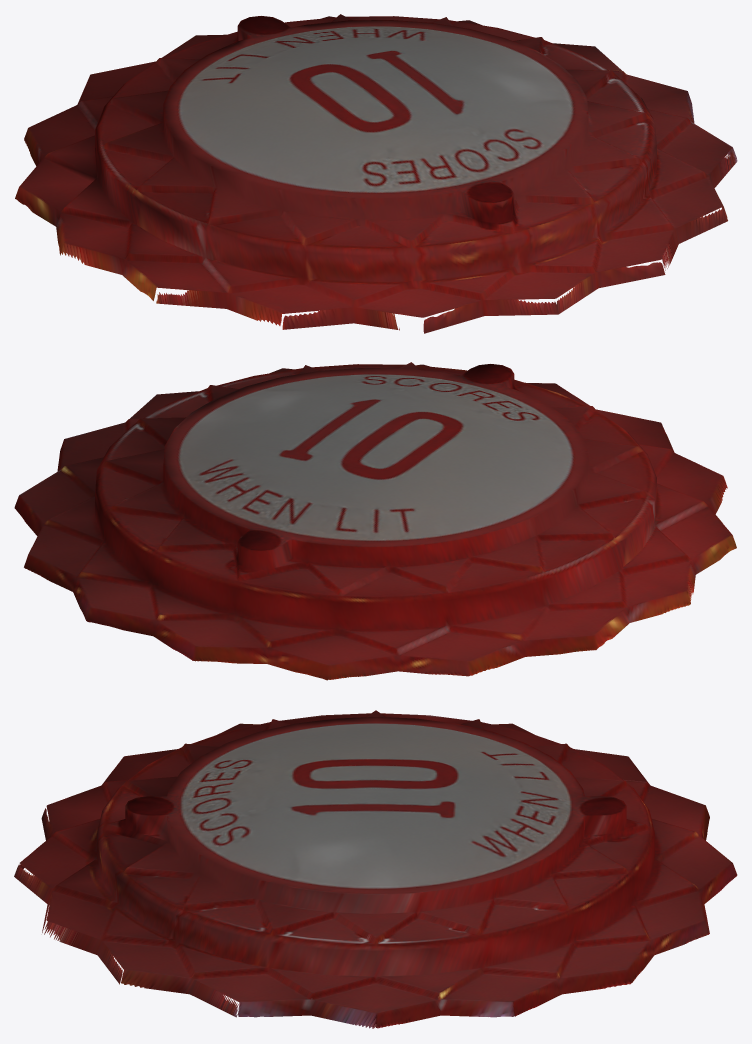
Rendered from bumpc001.fbx.
3 renders of one model, top to bottom at view 1: azimuth 30°, elevation 25°; view 2: azimuth 150°, elevation 25°; view 3: azimuth 270°, elevation 25°, orthographic.
Visible parts, largest first — view 1: bumpc001; view 2: bumpc001; view 3: bumpc001.
Boxes of the visible parts, bbox=[...] form: bumpc001: bbox=[15, 14, 737, 333]; bumpc001: bbox=[14, 362, 736, 680]; bumpc001: bbox=[14, 710, 737, 1028].
Size of the model in its own units: 7.98 by 1.12 by 7.98.
1 material, 1 textured.
